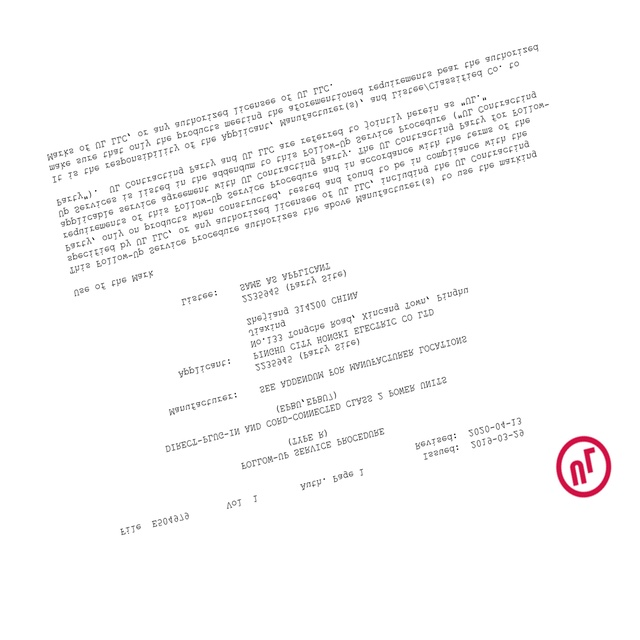ul: (555, 438, 611, 500)
